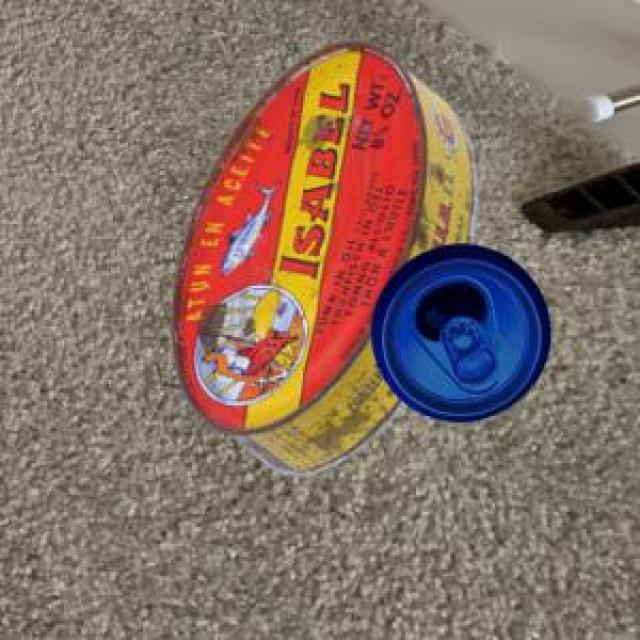logam: (170, 37, 475, 473), (368, 242, 547, 419)
